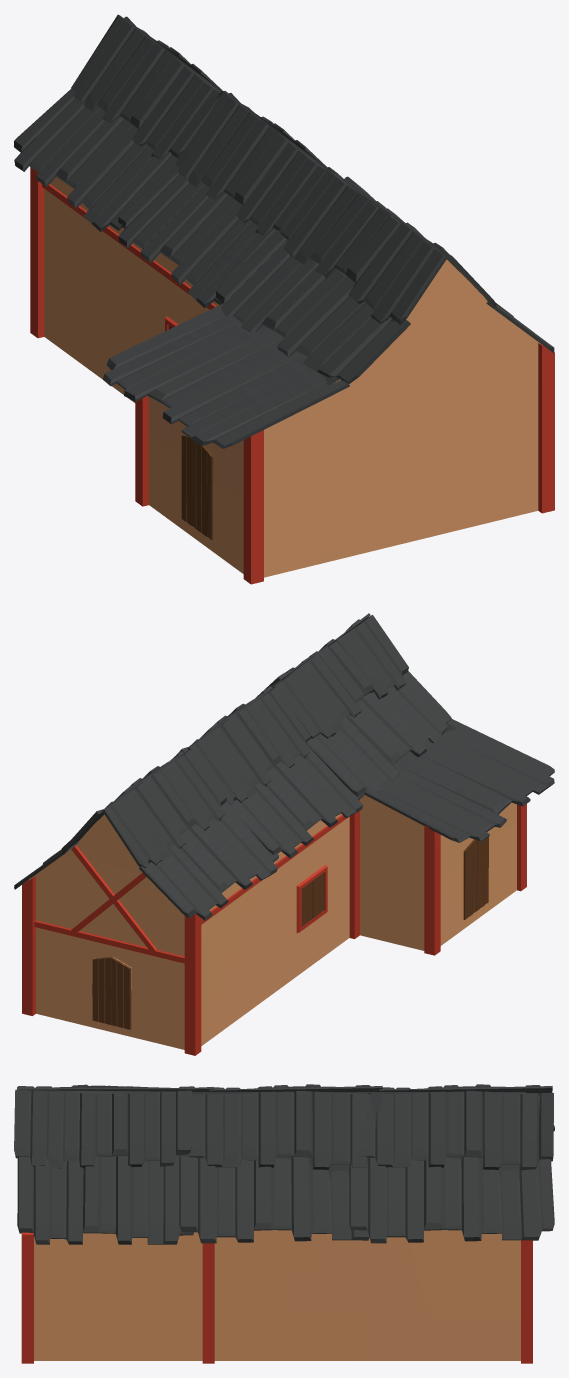
The model's file is house_3.fbx.
The picture shows the model from 3 angles, top to bottom: view 1: azimuth 30°, elevation 25°; view 2: azimuth 150°, elevation 25°; view 3: azimuth 270°, elevation 25°; orthographic projection. The views are drawn at different scales.
Parts seen in each view (by area): view 1: Roof_RedPlanks.006, 立方体.009, House1_Exteriour.015; view 2: 立方体.009, Roof_RedPlanks.006, House1_Exteriour.017, House1_Exteriour.015, House1_Exteriour.016; view 3: Roof_RedPlanks.006, 立方体.009.
Boxes of the visible parts, x1=… form: Roof_RedPlanks.006: x1=14, y1=14, x2=554, y2=448; 立方体.009: x1=30, y1=167, x2=554, y2=584; House1_Exteriour.015: x1=181, y1=435, x2=213, y2=540; 立方体.009: x1=22, y1=675, x2=526, y2=1055; Roof_RedPlanks.006: x1=14, y1=613, x2=554, y2=920; House1_Exteriour.017: x1=92, y1=957, x2=131, y2=1029; House1_Exteriour.015: x1=463, y1=837, x2=488, y2=919; House1_Exteriour.016: x1=301, y1=872, x2=324, y2=926; Roof_RedPlanks.006: x1=14, y1=1084, x2=554, y2=1244; 立方体.009: x1=21, y1=1092, x2=532, y2=1363.
Bounding box in the file's own units: 275 × 208 × 436.
